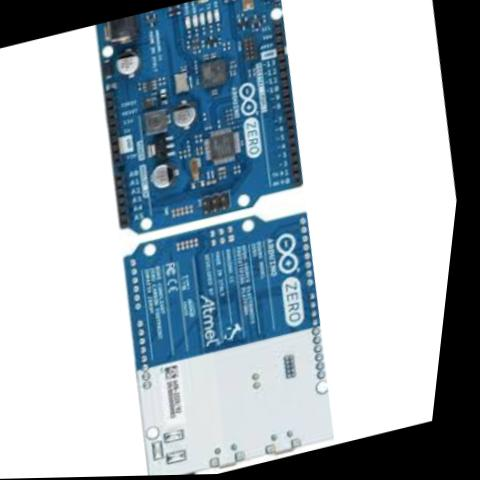Arduino-Zero: (74, 0, 327, 245)
